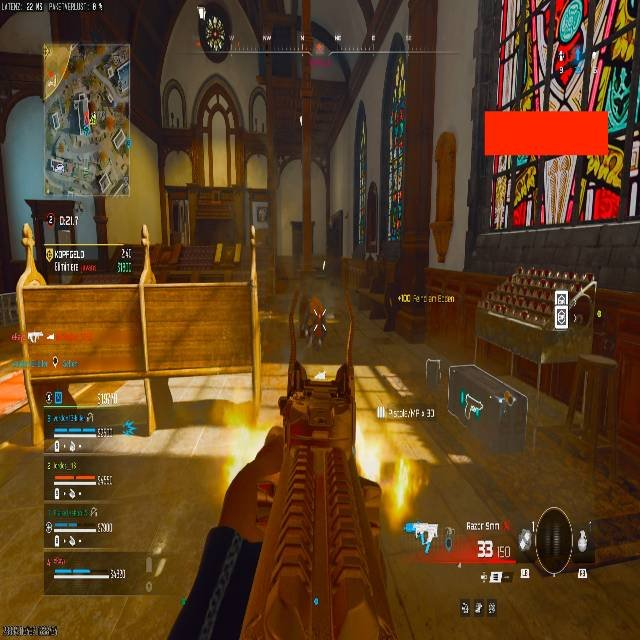player: (305, 302, 328, 352)
